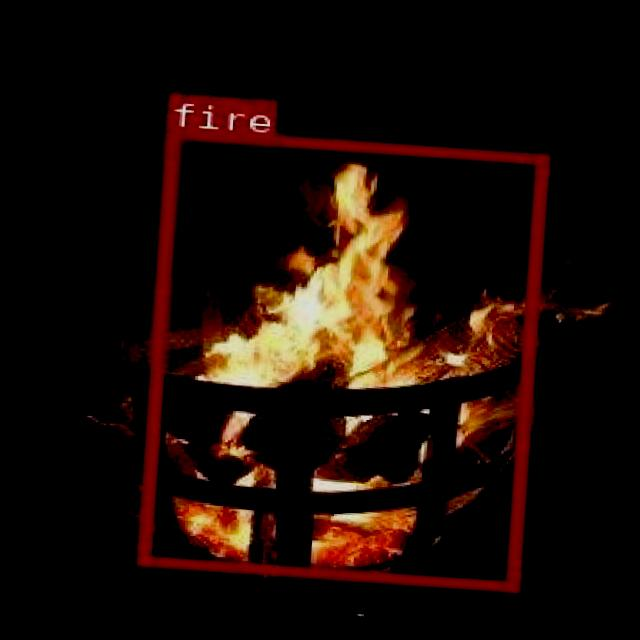fire: (135, 126, 548, 588)
